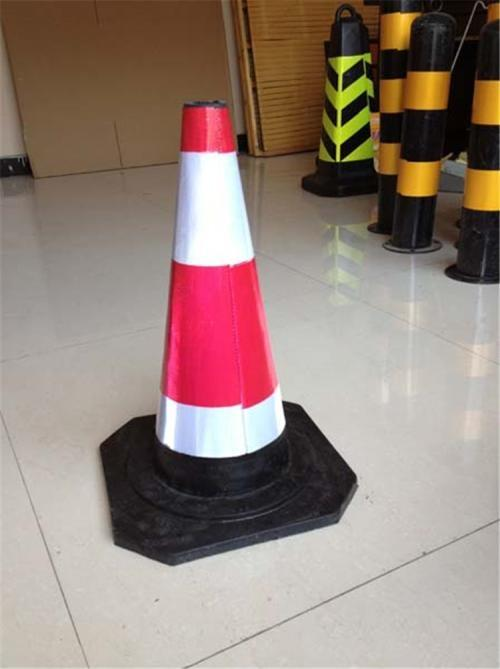cone_barrel: (140, 102, 299, 487), (389, 12, 461, 256), (300, 6, 384, 196), (448, 24, 498, 285)
